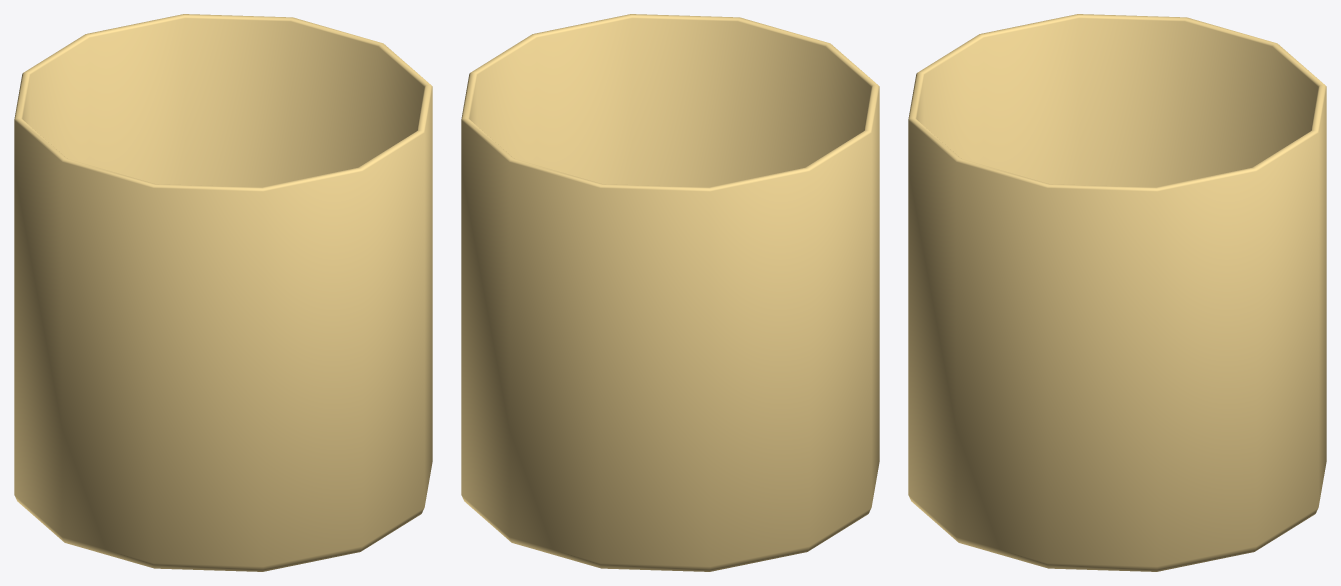
The model's file is shelf_prop_gold_cup.fbx.
3 renders of one model, left to right at view 1: azimuth 30°, elevation 25°; view 2: azimuth 150°, elevation 25°; view 3: azimuth 270°, elevation 25°, orthographic.
Visible parts, largest first — view 1: Cube.029; view 2: Cube.029; view 3: Cube.029.
Boxes of the visible parts, x1,y1,x2,y2 form: Cube.029: (14,14,432,571); Cube.029: (461,14,879,571); Cube.029: (908,14,1326,571).
Size of the model in its own units: 14.32 by 14.58 by 14.32.
